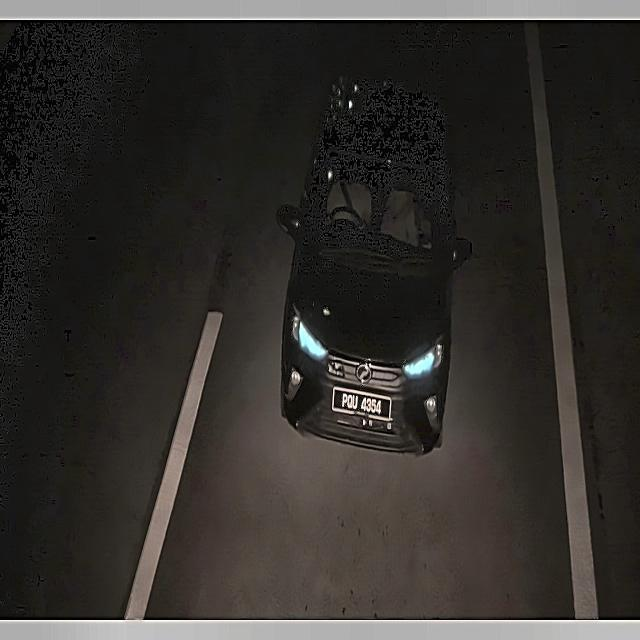car: (330, 381, 394, 426)
